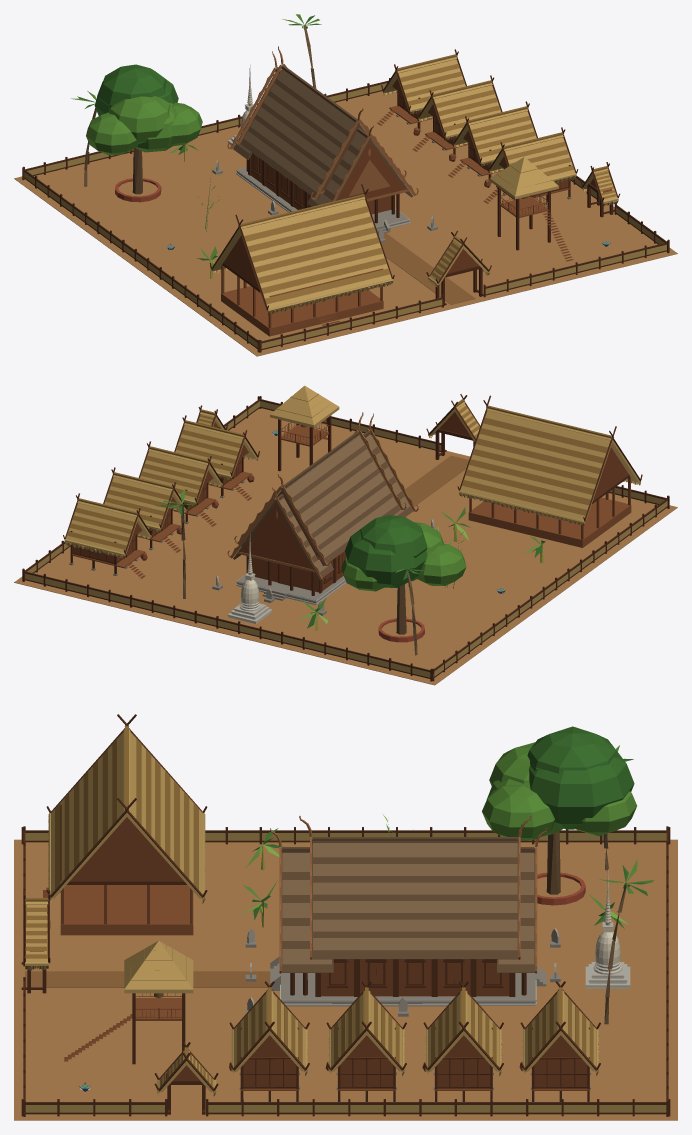
Rendered from temple_2.glb.
3 views of the same model, one above another, from view 1: azimuth 30°, elevation 25°; view 2: azimuth 150°, elevation 25°; view 3: azimuth 270°, elevation 25° (orthographic). The views are drawn at different scales.
Visible parts, largest first — view 1: body; view 2: body; view 3: body.
Boxes of the visible parts, bbox=[...] form: body: bbox=[14, 14, 677, 356]; body: bbox=[14, 385, 677, 685]; body: bbox=[14, 714, 677, 1120].
Bounding box in the file's own units: 47.9 × 13.15 × 47.9.
